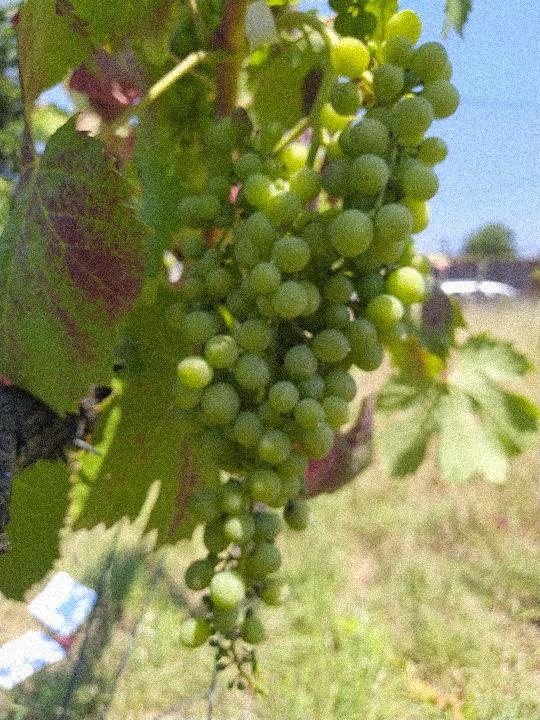grape: (169, 8, 461, 693)
